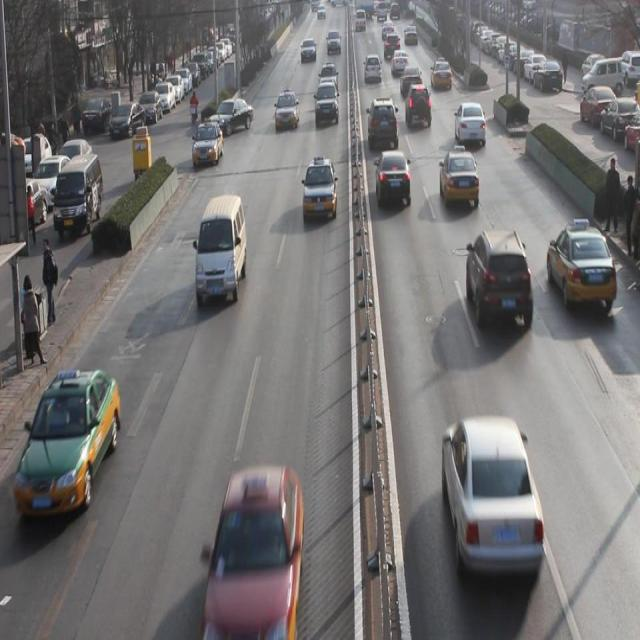car: (442, 418, 545, 578), (20, 376, 121, 513), (468, 223, 532, 329), (547, 223, 617, 315), (439, 148, 480, 210), (301, 158, 338, 222), (376, 150, 411, 208), (369, 98, 400, 150), (210, 99, 254, 134), (192, 121, 224, 168), (455, 102, 487, 147), (407, 86, 432, 132), (274, 91, 301, 133), (315, 86, 338, 130), (431, 57, 452, 92), (363, 52, 383, 88), (319, 64, 339, 95)
truck: (195, 196, 248, 308)
